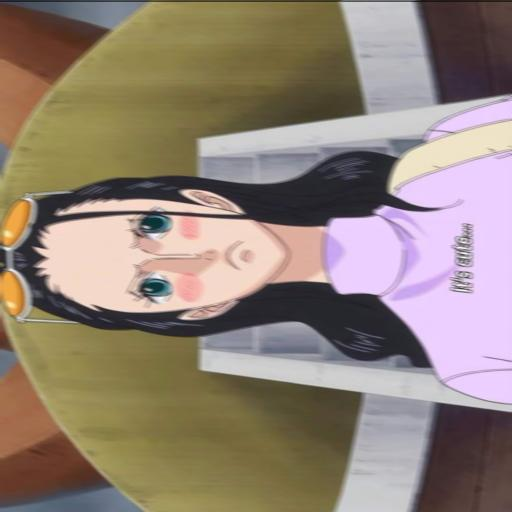NicoRobin: (0, 156, 413, 360)
